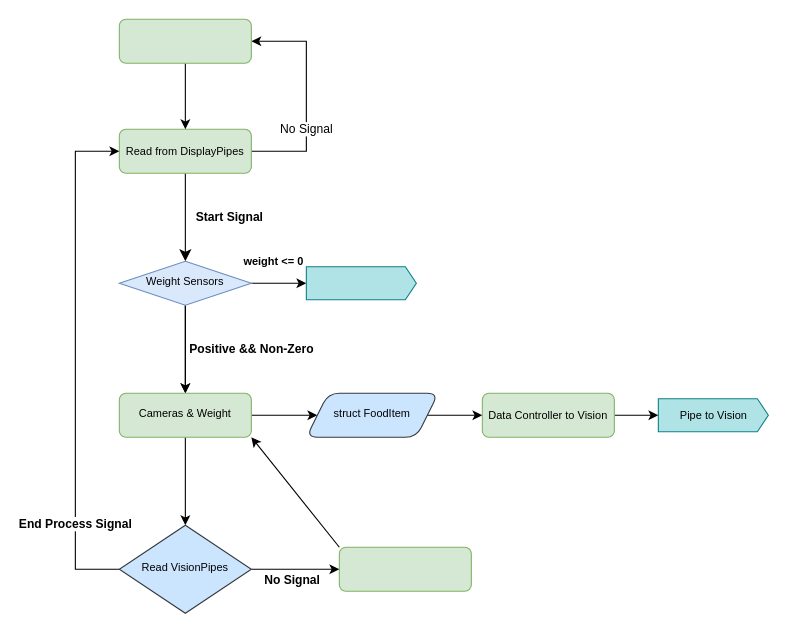
Image size: 788x633. Some labels were removed from this diagram. The centre of each missing label's shape, as x and y in pixels:
"Error to Display" goes at [360,283].
"Motor (rotate plate)" goes at [404,568].
"Sleep?" goes at [184,40].
